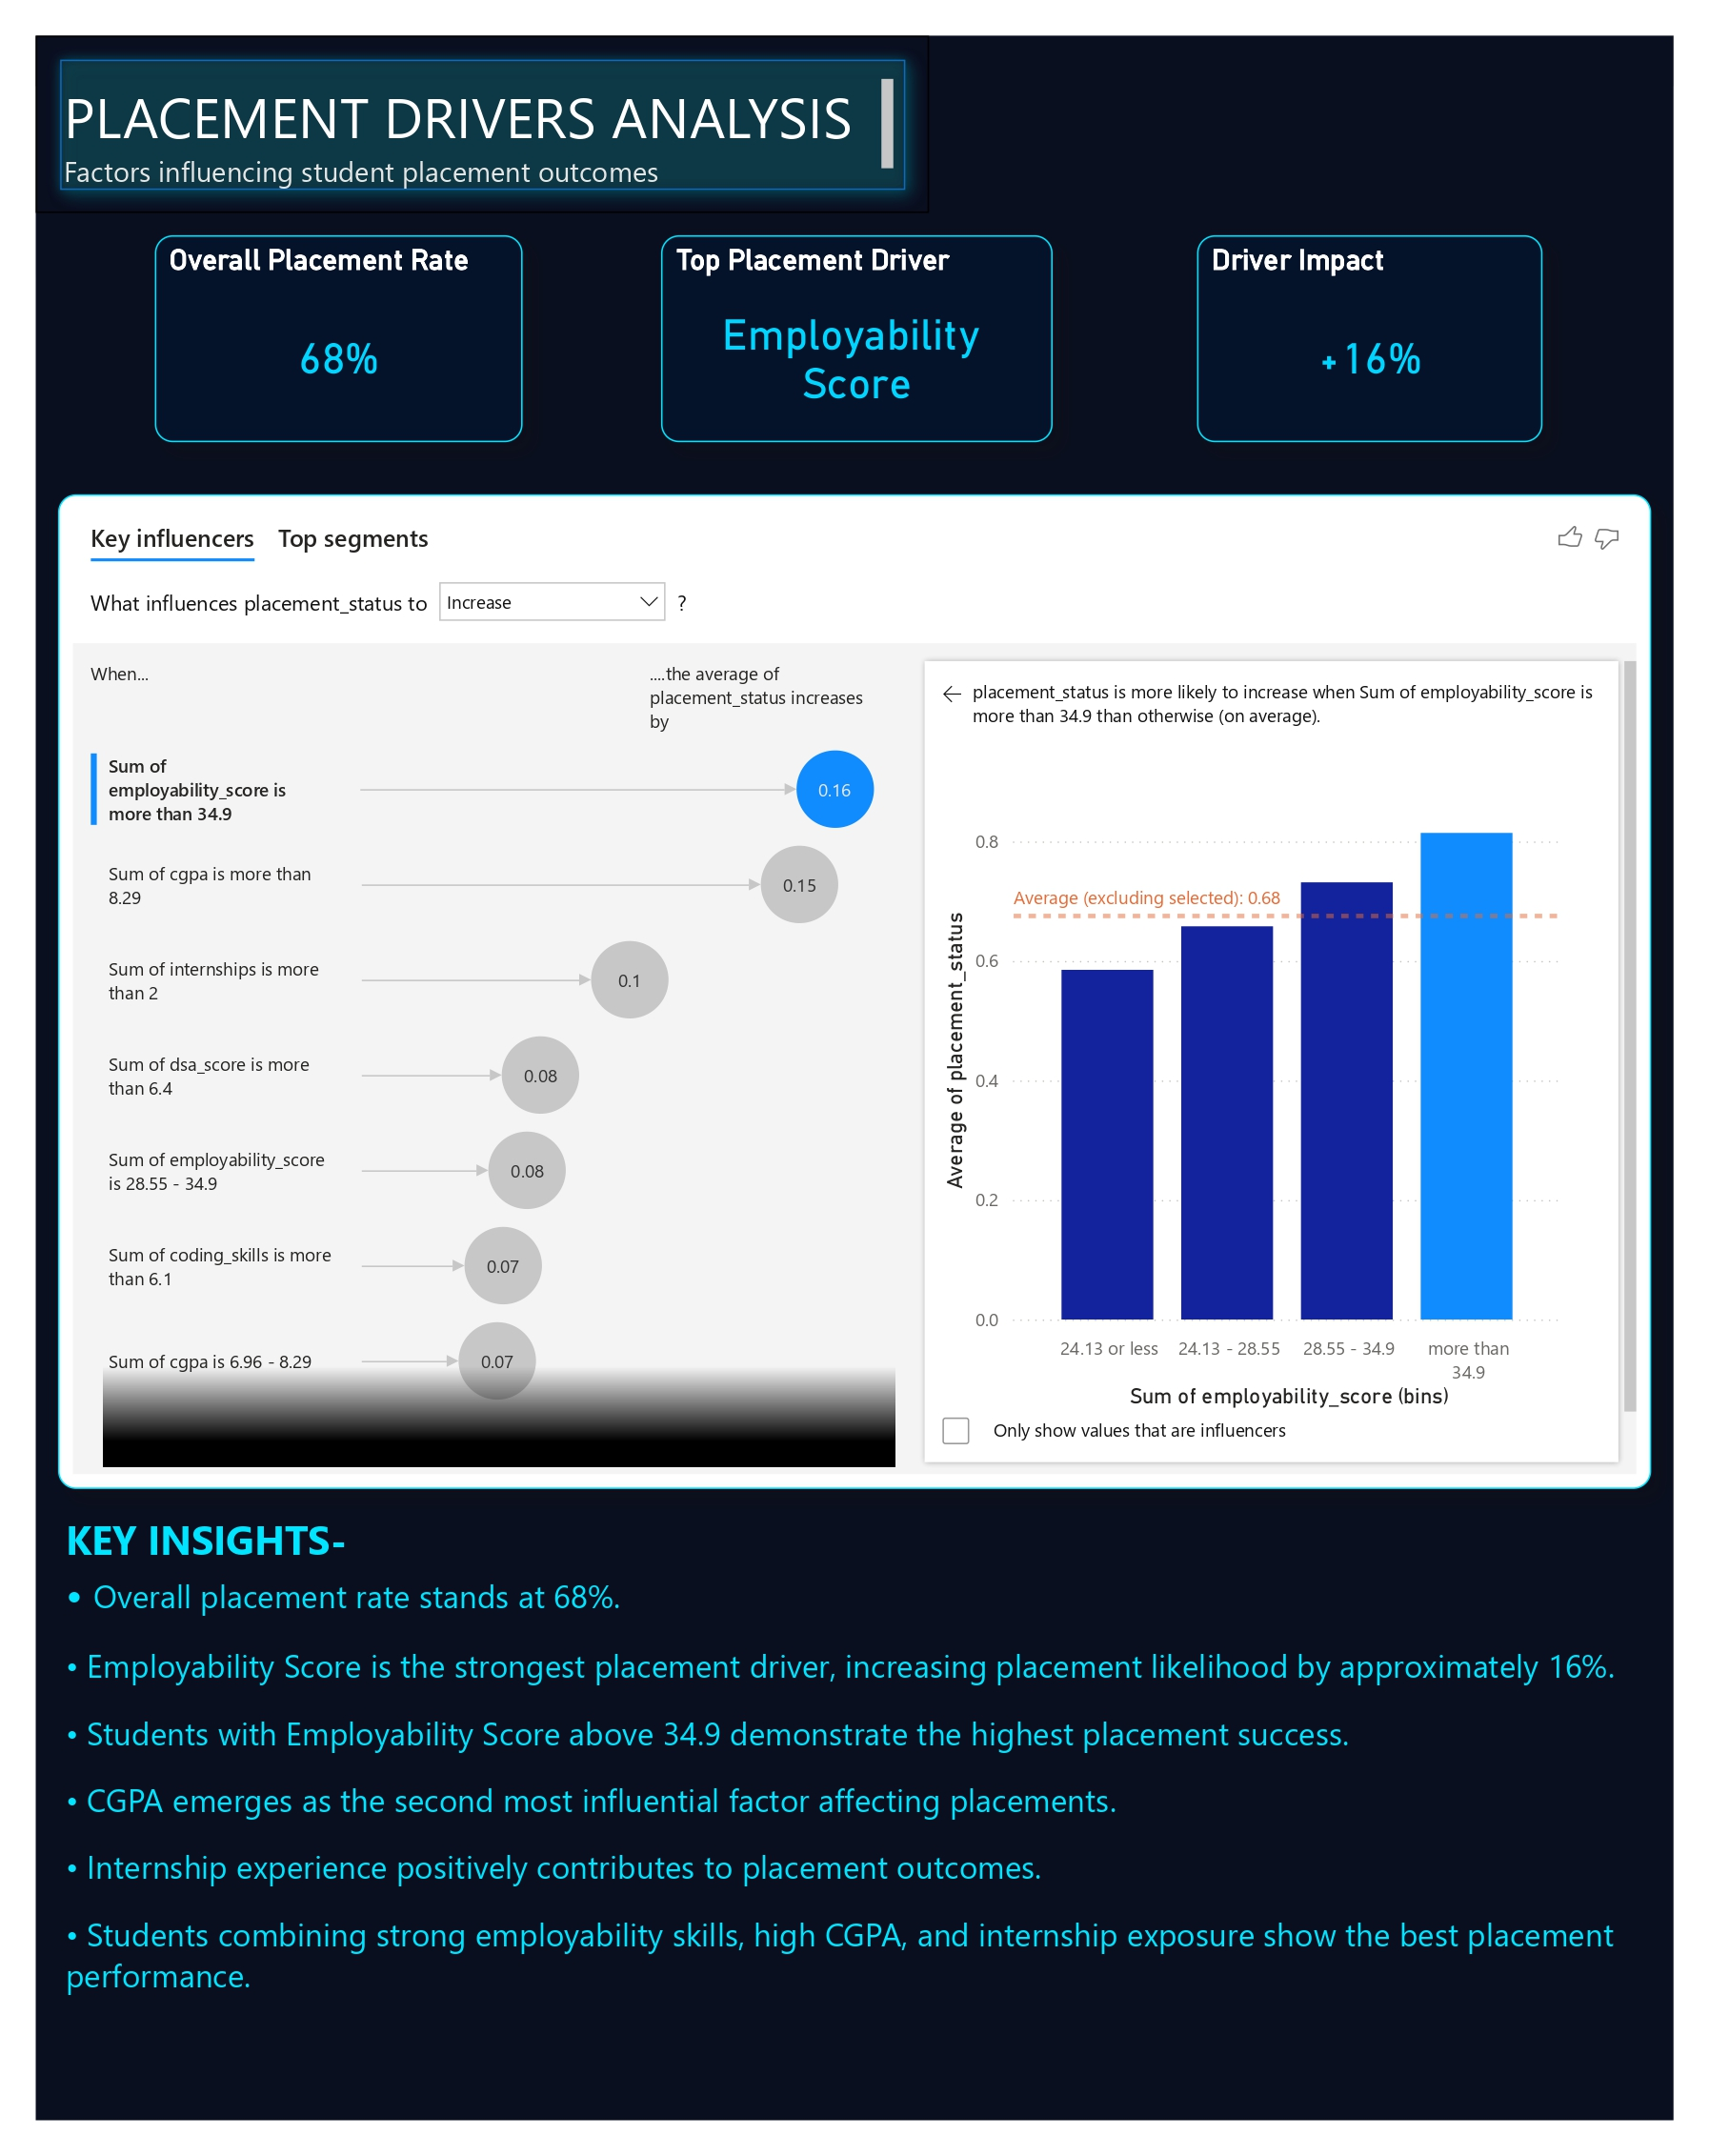

The page's visual inventory and layout, read from the dashboard file:
{"tool":"powerbi","page":{"name":"Placement Drivers","canvas":[1100,1400],"ordinal":1},"visuals":[{"type":"keyDriversVisual","fields":{"Target":["placement_cleaned.placement_status"],"ExplainBy":["Sum(placement_cleaned.cgpa)","Sum(placement_cleaned.coding_skills)","Sum(placement_cleaned.communication_skills)","Sum(placement_cleaned.aptitude_score)","Sum(placement_cleaned.certifications)","Sum(placement_cleaned.dsa_score)","Sum(placement_cleaned.internships)","Sum(placement_cleaned.employability_score)"]},"box":[15.3,308.5,1069.5,667.8],"z":0},{"type":"shape","title":"PLACEMENT DRIVERS ANALYSIS","box":[0,0,600,118.6],"z":1000},{"type":"textbox","box":[13.6,23.7,567.8,72.9],"z":1001},{"type":"textbox","box":[13.6,72.9,496.6,45.8],"z":1002},{"type":"card","title":"Overall Placement Rate","fields":{"Values":["placement_cleaned.Placement Rate %"]},"box":[79.7,133.9,247.5,139],"z":1003},{"type":"card","title":"Top Placement Driver","fields":{"Values":["placement_cleaned.Top Driver"]},"box":[420.3,133.9,262.7,139],"z":1004},{"type":"card","title":"Driver Impact","fields":{"Values":["placement_cleaned.Driver Impact"]},"box":[779.7,133.9,232.2,139],"z":1005},{"type":"textbox","box":[15,986,1069,414],"z":1006}]}

Visuals, with their boxes on the page's 1100x1400 design canvas (x1, y1, x2, y2). These are canvas units, not pixel positions in the 1709x2156 screenshot, which may show the page scaled, cropped or inside an application window:
keyDriversVisual - placement_cleaned.placement_status x Sum(placement_cleaned.cgpa): left=15, top=308, right=1085, bottom=976
"PLACEMENT DRIVERS ANALYSIS" shape: left=0, top=0, right=600, bottom=119
textbox: left=14, top=24, right=581, bottom=97
textbox: left=14, top=73, right=510, bottom=119
"Overall Placement Rate" card: left=80, top=134, right=327, bottom=273
"Top Placement Driver" card: left=420, top=134, right=683, bottom=273
"Driver Impact" card: left=780, top=134, right=1012, bottom=273
textbox: left=15, top=986, right=1084, bottom=1400
